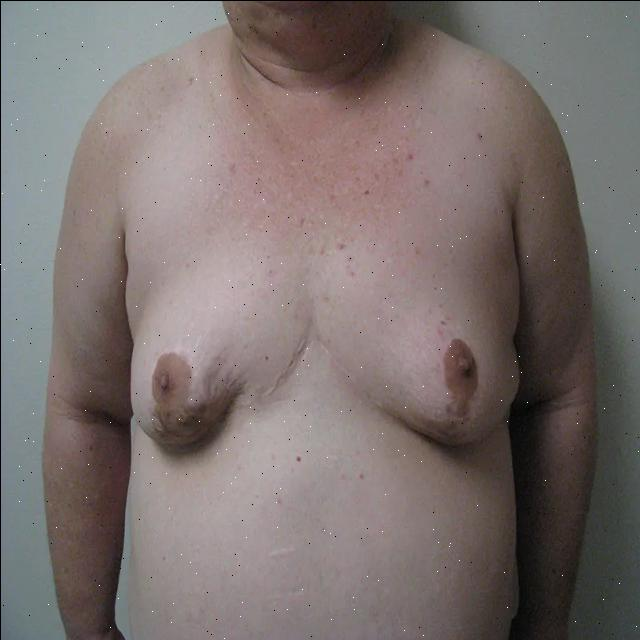Seno herido: (318, 240, 524, 466), (123, 240, 314, 466)
